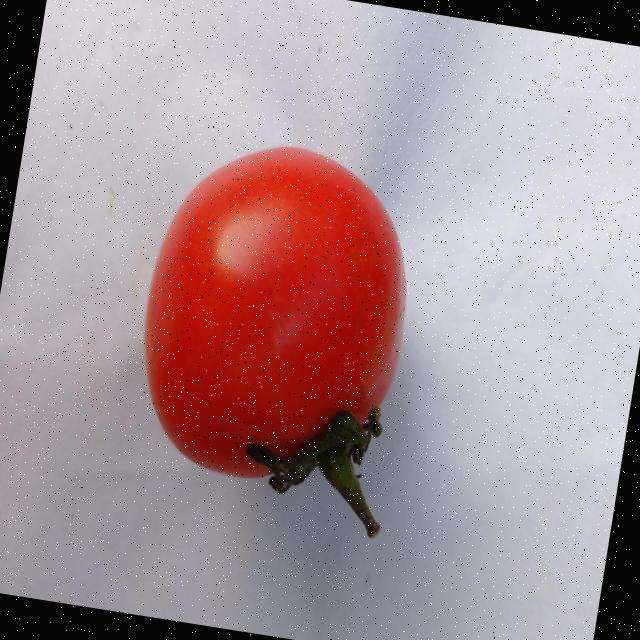Ripe: (121, 128, 432, 508)
